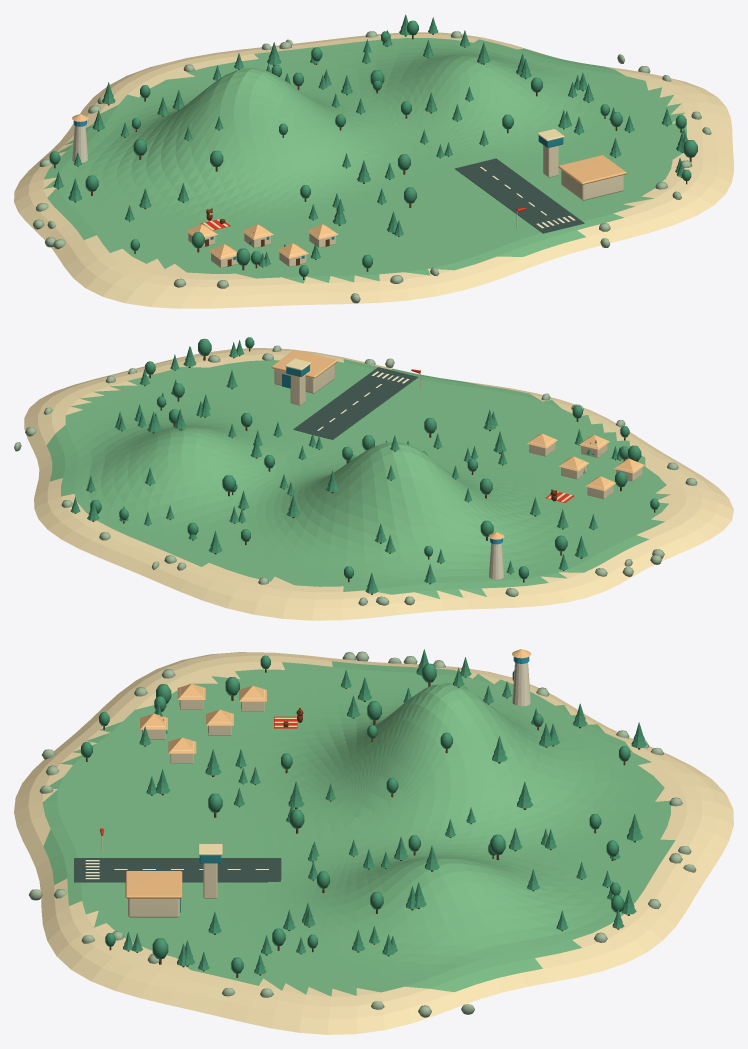
The model's file is jungle-island.glb.
3 renders of one model, top to bottom at view 1: azimuth 30°, elevation 25°; view 2: azimuth 150°, elevation 25°; view 3: azimuth 270°, elevation 25°, orthographic. The views are drawn at different scales.
Visible parts, largest first — view 1: Peach sand, Leaf 0, Runway, Leaf 1, Leaf 2, Terracotta roofs, Buttercream walls, Warm rock, Chalk, Cinnamon wood; view 2: Peach sand, Leaf 0, Runway, Leaf 1, Leaf 2, Terracotta roofs, Buttercream walls, Warm rock, Chalk; view 3: Peach sand, Leaf 0, Leaf 1, Leaf 2, Runway, Terracotta roofs, Buttercream walls, Warm rock, Chalk.
Part boxes in pixels (box(x1,y1,x2,y2)): Peach sand: box(14, 32, 733, 308); Leaf 0: box(49, 20, 697, 276); Runway: box(455, 158, 584, 233); Leaf 1: box(53, 14, 687, 245); Leaf 2: box(92, 17, 687, 266); Terracotta roofs: box(72, 114, 626, 259); Buttercream walls: box(188, 145, 623, 267); Warm rock: box(33, 31, 711, 303); Chalk: box(72, 125, 575, 228); Cinnamon wood: box(54, 34, 691, 279); Peach sand: box(24, 348, 733, 620); Leaf 0: box(90, 337, 659, 578); Runway: box(293, 367, 418, 439); Leaf 1: box(86, 340, 597, 573); Leaf 2: box(70, 342, 622, 593); Terracotta roofs: box(271, 349, 644, 539); Buttercream walls: box(274, 364, 642, 499); Warm rock: box(14, 345, 697, 605); Chalk: box(317, 371, 504, 579); Peach sand: box(14, 652, 733, 1034); Leaf 0: box(81, 655, 630, 973); Leaf 1: box(123, 649, 643, 970); Leaf 2: box(132, 667, 647, 974); Runway: box(74, 858, 281, 882); Terracotta roofs: box(125, 649, 531, 898); Buttercream walls: box(128, 687, 264, 917); Warm rock: box(29, 651, 696, 1017); Chalk: box(85, 662, 530, 879).
Bounding box in the file's own units: 192 × 29.64 × 153.
